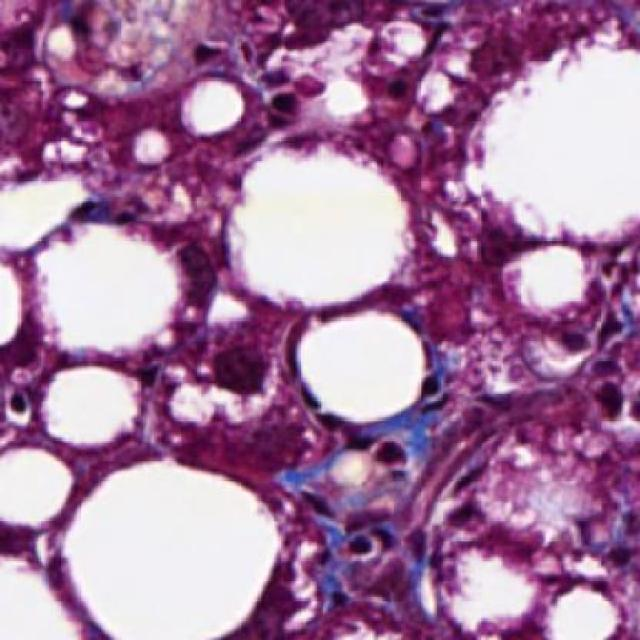inflammation: (290, 486, 412, 574), (583, 292, 640, 426), (246, 61, 333, 126)
